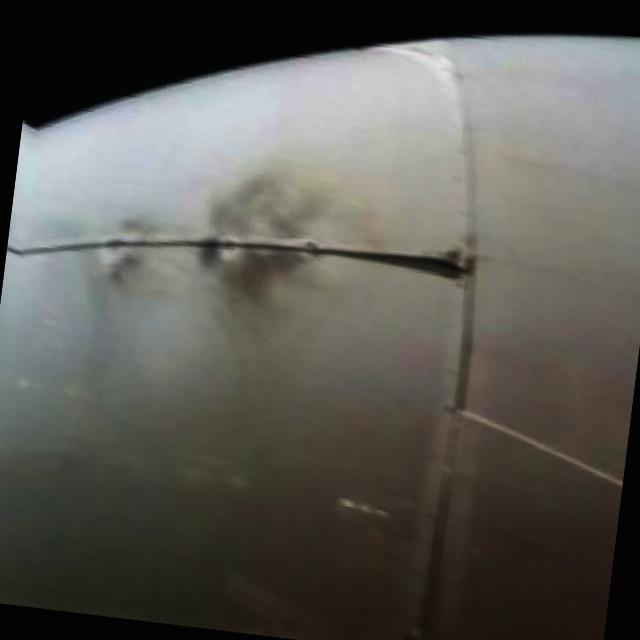crack: (314, 242, 468, 274)
